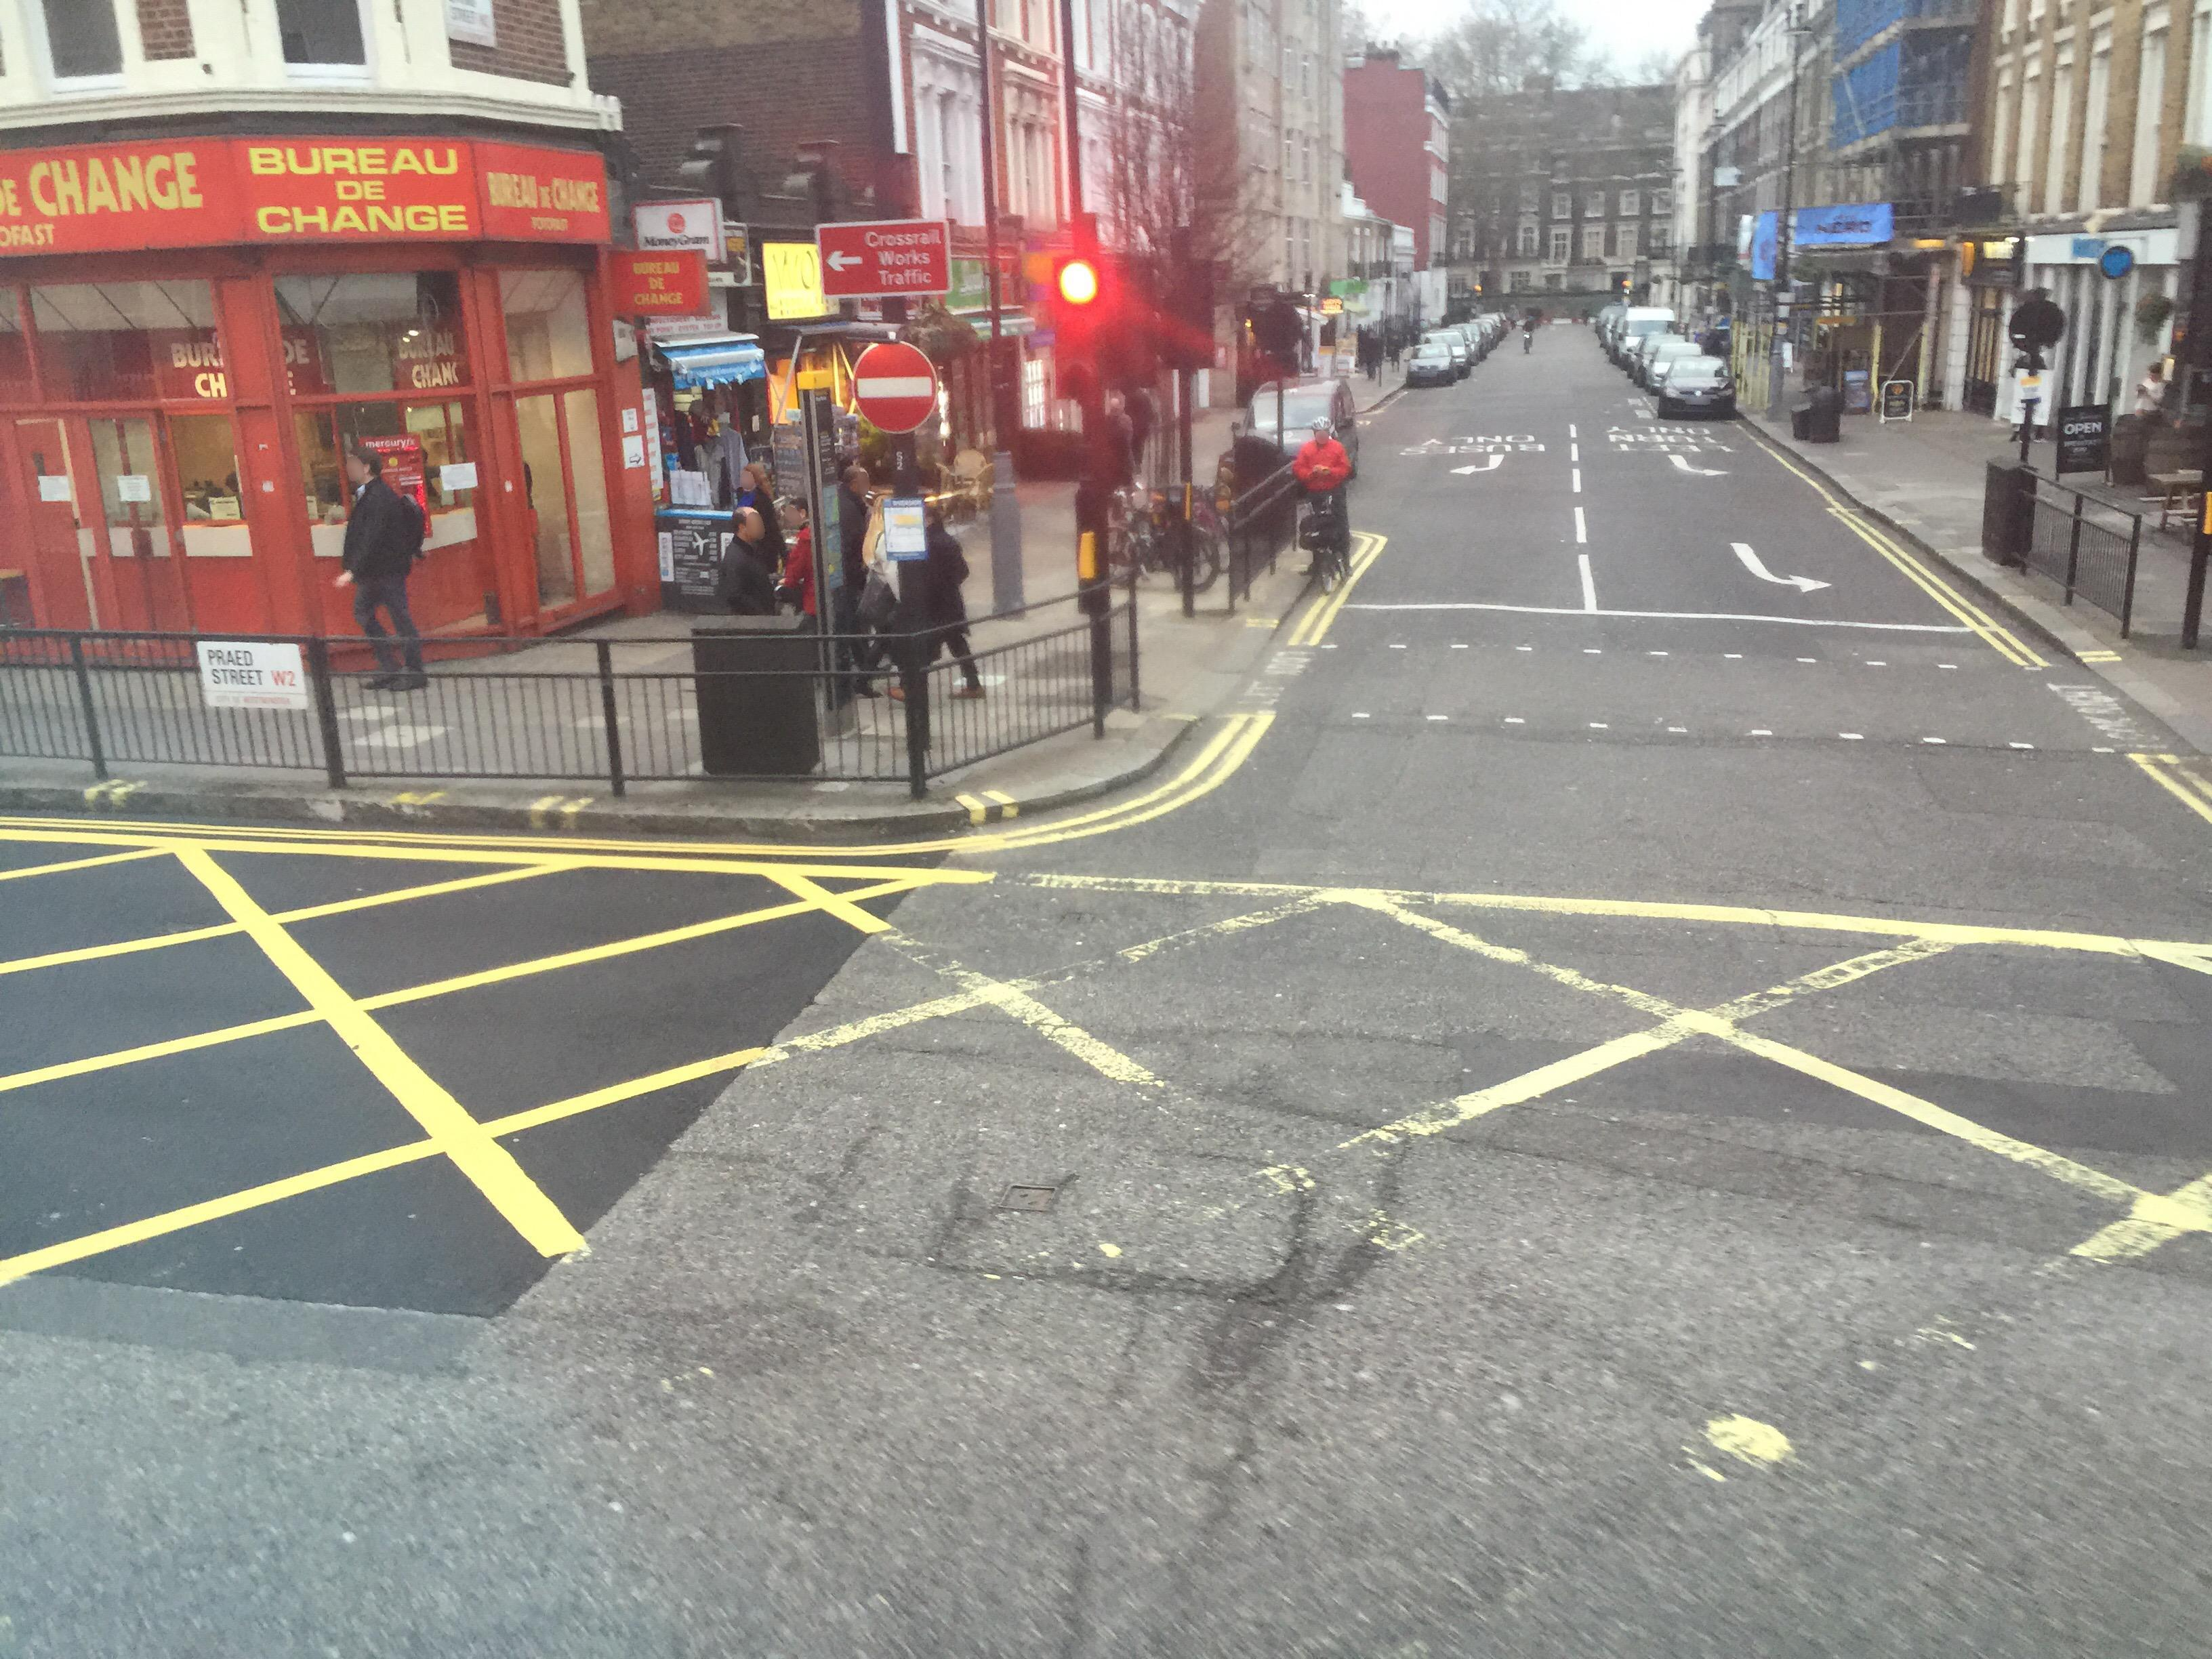vinyl banner: (1794, 190, 1912, 265), (1740, 200, 1801, 281)
